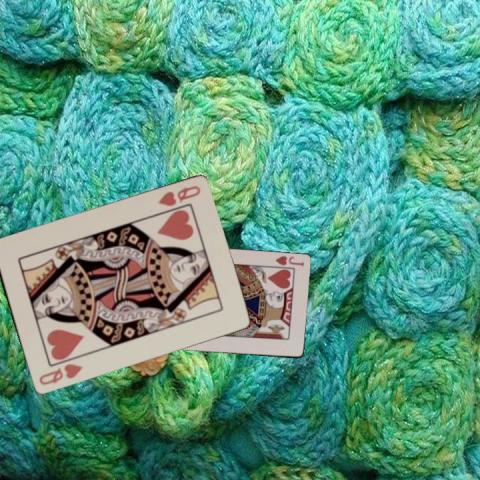Jh: (272, 253, 305, 268)
Qh: (36, 361, 84, 387), (155, 183, 202, 208)
